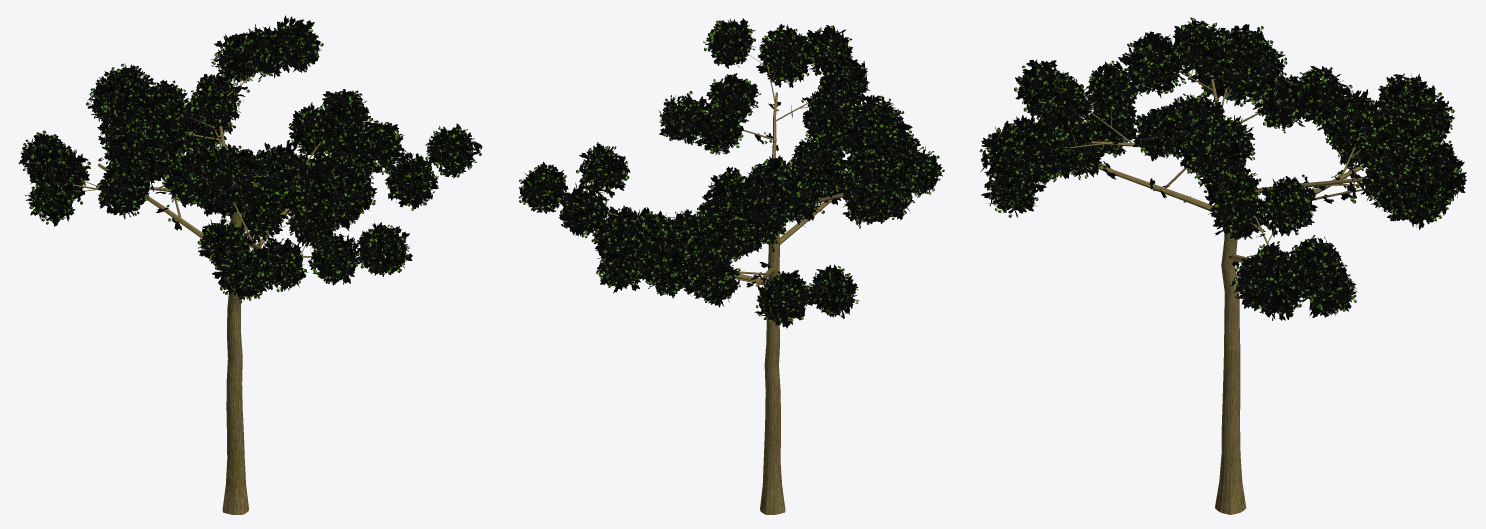
File: pine_open_v02.fbx
3 renders of one model, left to right at view 1: azimuth 30°, elevation 25°; view 2: azimuth 150°, elevation 25°; view 3: azimuth 270°, elevation 25°, orthographic. The views are drawn at different scales.
Parts seen in each view (by area): view 1: pine_open_v02; view 2: pine_open_v02; view 3: pine_open_v02.
Boxes of the visible parts, left/top/right/bottom form: pine_open_v02: left=18, top=15, right=482, bottom=514; pine_open_v02: left=519, top=18, right=944, bottom=514; pine_open_v02: left=979, top=17, right=1466, bottom=514.
Size of the model in its own units: 1652 by 2025 by 2112.
2 materials, 2 textured.
